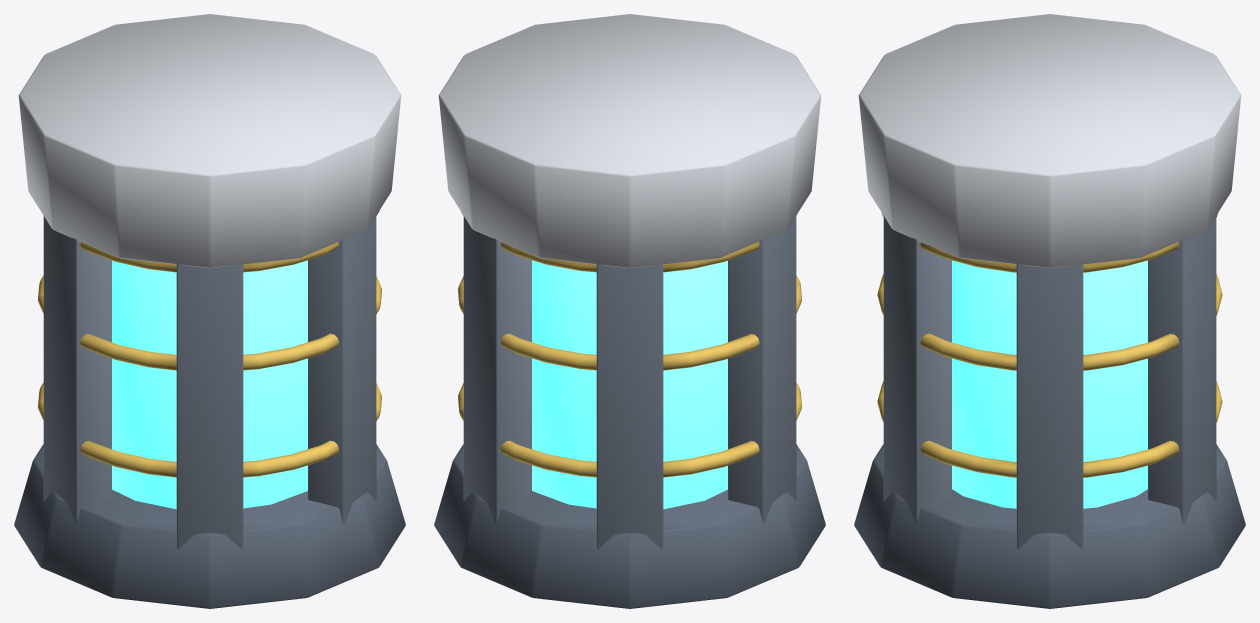
Rendered from reactor_turbine_core.glb.
The picture shows the model from 3 angles, left to right: view 1: azimuth 30°, elevation 25°; view 2: azimuth 150°, elevation 25°; view 3: azimuth 270°, elevation 25°; orthographic projection.
Visible parts, largest first — view 1: PropBody_A2_OrbitalCeramic, PropBody_A2_SlateArmor, PropBody_A2_SlateFrame, PropBody_act2_PropGlow, PropBody_A2_SignalGold; view 2: PropBody_A2_OrbitalCeramic, PropBody_A2_SlateArmor, PropBody_A2_SlateFrame, PropBody_act2_PropGlow, PropBody_A2_SignalGold; view 3: PropBody_A2_OrbitalCeramic, PropBody_A2_SlateArmor, PropBody_A2_SlateFrame, PropBody_act2_PropGlow, PropBody_A2_SignalGold.
Part boxes in pixels (<box>): PropBody_A2_OrbitalCeramic: <box>18,14,401,268</box>; PropBody_A2_SlateArmor: <box>43,216,376,549</box>; PropBody_A2_SlateFrame: <box>14,444,405,608</box>; PropBody_act2_PropGlow: <box>112,260,307,509</box>; PropBody_A2_SignalGold: <box>38,211,381,477</box>; PropBody_A2_OrbitalCeramic: <box>438,14,821,268</box>; PropBody_A2_SlateArmor: <box>463,216,796,549</box>; PropBody_A2_SlateFrame: <box>434,444,825,608</box>; PropBody_act2_PropGlow: <box>532,260,727,509</box>; PropBody_A2_SignalGold: <box>458,211,801,477</box>; PropBody_A2_OrbitalCeramic: <box>858,14,1241,268</box>; PropBody_A2_SlateArmor: <box>883,216,1216,549</box>; PropBody_A2_SlateFrame: <box>854,444,1245,608</box>; PropBody_act2_PropGlow: <box>952,260,1147,508</box>; PropBody_A2_SignalGold: <box>877,212,1222,477</box>.
Bounding box in the file's own units: 7.96 × 9.7 × 7.96.
